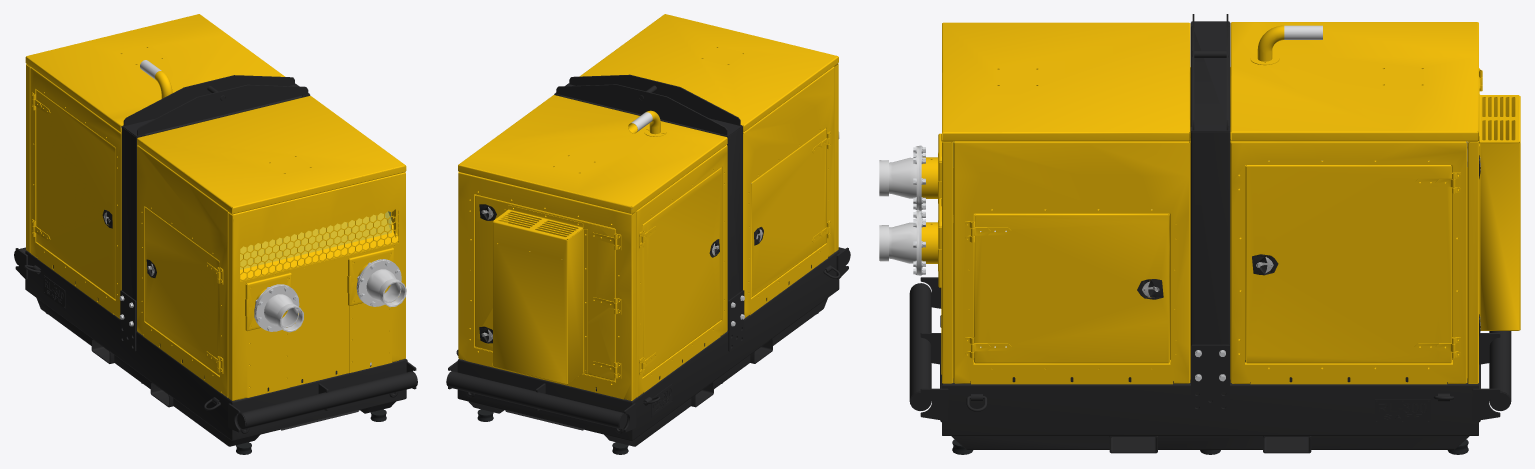
File: msp-enclosure.glb
3 renders of one model, left to right at view 1: azimuth 30°, elevation 25°; view 2: azimuth 150°, elevation 25°; view 3: azimuth 270°, elevation 25°, orthographic. The views are drawn at different scales.
Visible parts, largest first — view 1: G2RL300-SAF-1003-2, G2RL300-SAF-1005-3, G2RL300-SAF-1006-2, G2RL300-SAF-2011-14, MirrorG2RL300-SAF-1001-6, G2RL300-SAF-1011-12, V2RL300-FTS-2004-SAFE-1, MirrorG2RL300-SAF-2002-5, GRRL200-SAF-1172-1, V2RL300-FTS-2002-SAFE-2, G2RL200-LBA-SAF-2000-3/G2RL200-SAF-1033-1, V2SKF-TB-5500-03-2 (+16 smaller); view 2: G2RL300-SAF-1006-2, G2RL200-SAF-2027-1, G2RL300-SAF-1005-3, G2RL300-SAF-2011-14, G2RL200-SAF-1004-2, G2RL300-SAF-1011-12, MirrorG2RL300-SAF-1001-6, V2RL300-FTS-2004-SAFE-1, V2RL300-SAF-1021-6, MirrorG2RL300-SAF-2002-5, V2RL300-FTS-2002-SAFE-1, G2RL200-LBA-SAF-2000-3/G2RL200-SAF-1033-2 (+9 smaller); view 3: G2RL300-SAF-2011-10, G2RL300-SAF-1005-3, G2RL300-SAF-1011-8, G2RL300-SAF-1006-2, G2RL300-SAF-1001-4, V2RL300-FTS-2003-SAFE-1, G2RL300-SAF-2002-3, G2RL200-SAF-2027-1, G2RL200-LBA-SAF-2000-3/G2RL200-SAF-1040-1, G2RL200-LBA-SAF-2000-3/G2RL200-SAF-1041-1, G2RL300-SAF-1003-2, G2RL200-SAF-1004-2 (+18 smaller).
Part boxes in pixels (x1=…): G2RL300-SAF-1003-2: x1=228, y1=172, x2=405, y2=400; G2RL300-SAF-1005-3: x1=137, y1=96, x2=406, y2=214; G2RL300-SAF-1006-2: x1=25, y1=14, x2=285, y2=132; G2RL300-SAF-2011-14: x1=36, y1=90, x2=115, y2=299; MirrorG2RL300-SAF-1001-6: x1=137, y1=145, x2=228, y2=397; G2RL300-SAF-1011-12: x1=145, y1=207, x2=219, y2=375; V2RL300-FTS-2004-SAFE-1: x1=25, y1=250, x2=232, y2=440; MirrorG2RL300-SAF-2002-5: x1=30, y1=67, x2=121, y2=318; GRRL200-SAF-1172-1: x1=232, y1=208, x2=398, y2=281; V2RL300-FTS-2002-SAFE-2: x1=232, y1=359, x2=406, y2=441; G2RL200-LBA-SAF-2000-3/G2RL200-SAF-1033-1: x1=137, y1=84, x2=308, y2=135; V2SKF-TB-5500-03-2: x1=240, y1=371, x2=417, y2=428; G2RL300-SAF-1006-2: x1=458, y1=95, x2=727, y2=213; G2RL200-SAF-2027-1: x1=493, y1=205, x2=587, y2=384; G2RL300-SAF-1005-3: x1=579, y1=14, x2=838, y2=132; G2RL300-SAF-2011-14: x1=642, y1=167, x2=721, y2=377; G2RL200-SAF-1004-2: x1=458, y1=172, x2=635, y2=400; G2RL300-SAF-1011-12: x1=751, y1=128, x2=826, y2=297; MirrorG2RL300-SAF-1001-6: x1=743, y1=67, x2=834, y2=317; V2RL300-FTS-2004-SAFE-1: x1=632, y1=250, x2=839, y2=440; V2RL300-SAF-1021-6: x1=475, y1=194, x2=615, y2=381; MirrorG2RL300-SAF-2002-5: x1=631, y1=145, x2=727, y2=397; V2RL300-FTS-2002-SAFE-1: x1=457, y1=359, x2=632, y2=441; G2RL200-LBA-SAF-2000-3/G2RL200-SAF-1033-2: x1=556, y1=84, x2=727, y2=135; G2RL300-SAF-2011-10: x1=1245, y1=165, x2=1452, y2=363; G2RL300-SAF-1005-3: x1=942, y1=22, x2=1190, y2=141; G2RL300-SAF-1011-8: x1=974, y1=213, x2=1169, y2=363; G2RL300-SAF-1006-2: x1=1230, y1=22, x2=1478, y2=141; G2RL300-SAF-1001-4: x1=953, y1=139, x2=1190, y2=384; V2RL300-FTS-2003-SAFE-1: x1=942, y1=361, x2=1478, y2=435; G2RL300-SAF-2002-3: x1=1230, y1=139, x2=1467, y2=384; G2RL200-SAF-2027-1: x1=1479, y1=88, x2=1520, y2=330; G2RL200-LBA-SAF-2000-3/G2RL200-SAF-1040-1: x1=1190, y1=127, x2=1230, y2=383; G2RL200-LBA-SAF-2000-3/G2RL200-SAF-1041-1: x1=1190, y1=21, x2=1230, y2=132; G2RL300-SAF-1003-2: x1=942, y1=141, x2=953, y2=383; G2RL200-SAF-1004-2: x1=1467, y1=141, x2=1478, y2=383.
Bounding box in the file's own units: 1.59 × 2.11 × 3.37.
